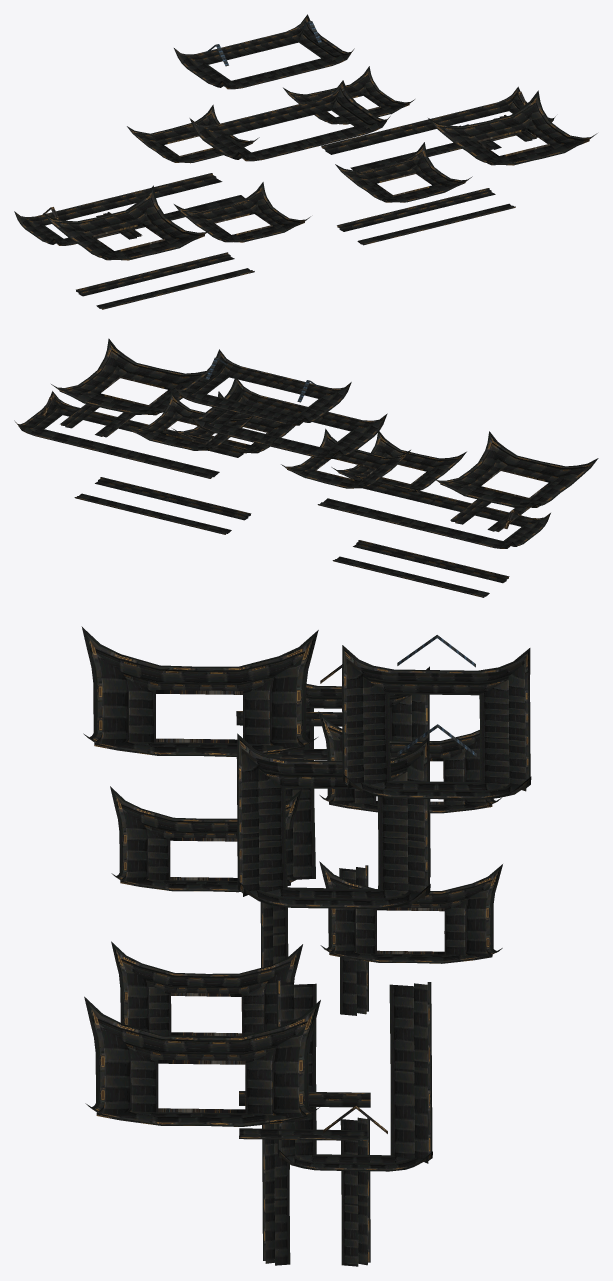
File: jd_fangzi_6.FBX
The picture shows the model from 3 angles, top to bottom: view 1: azimuth 30°, elevation 25°; view 2: azimuth 150°, elevation 25°; view 3: azimuth 270°, elevation 25°; orthographic projection. The views are drawn at different scales.
Parts seen in each view (by area): view 1: jd_fangzi_6; view 2: jd_fangzi_6; view 3: jd_fangzi_6.
Boxes of the visible parts, x1,y1,x2,y2 form: jd_fangzi_6: (14, 14, 597, 309); jd_fangzi_6: (14, 338, 598, 597); jd_fangzi_6: (81, 626, 531, 1266).
Size of the model in its own units: 2521 by 935 by 985.
